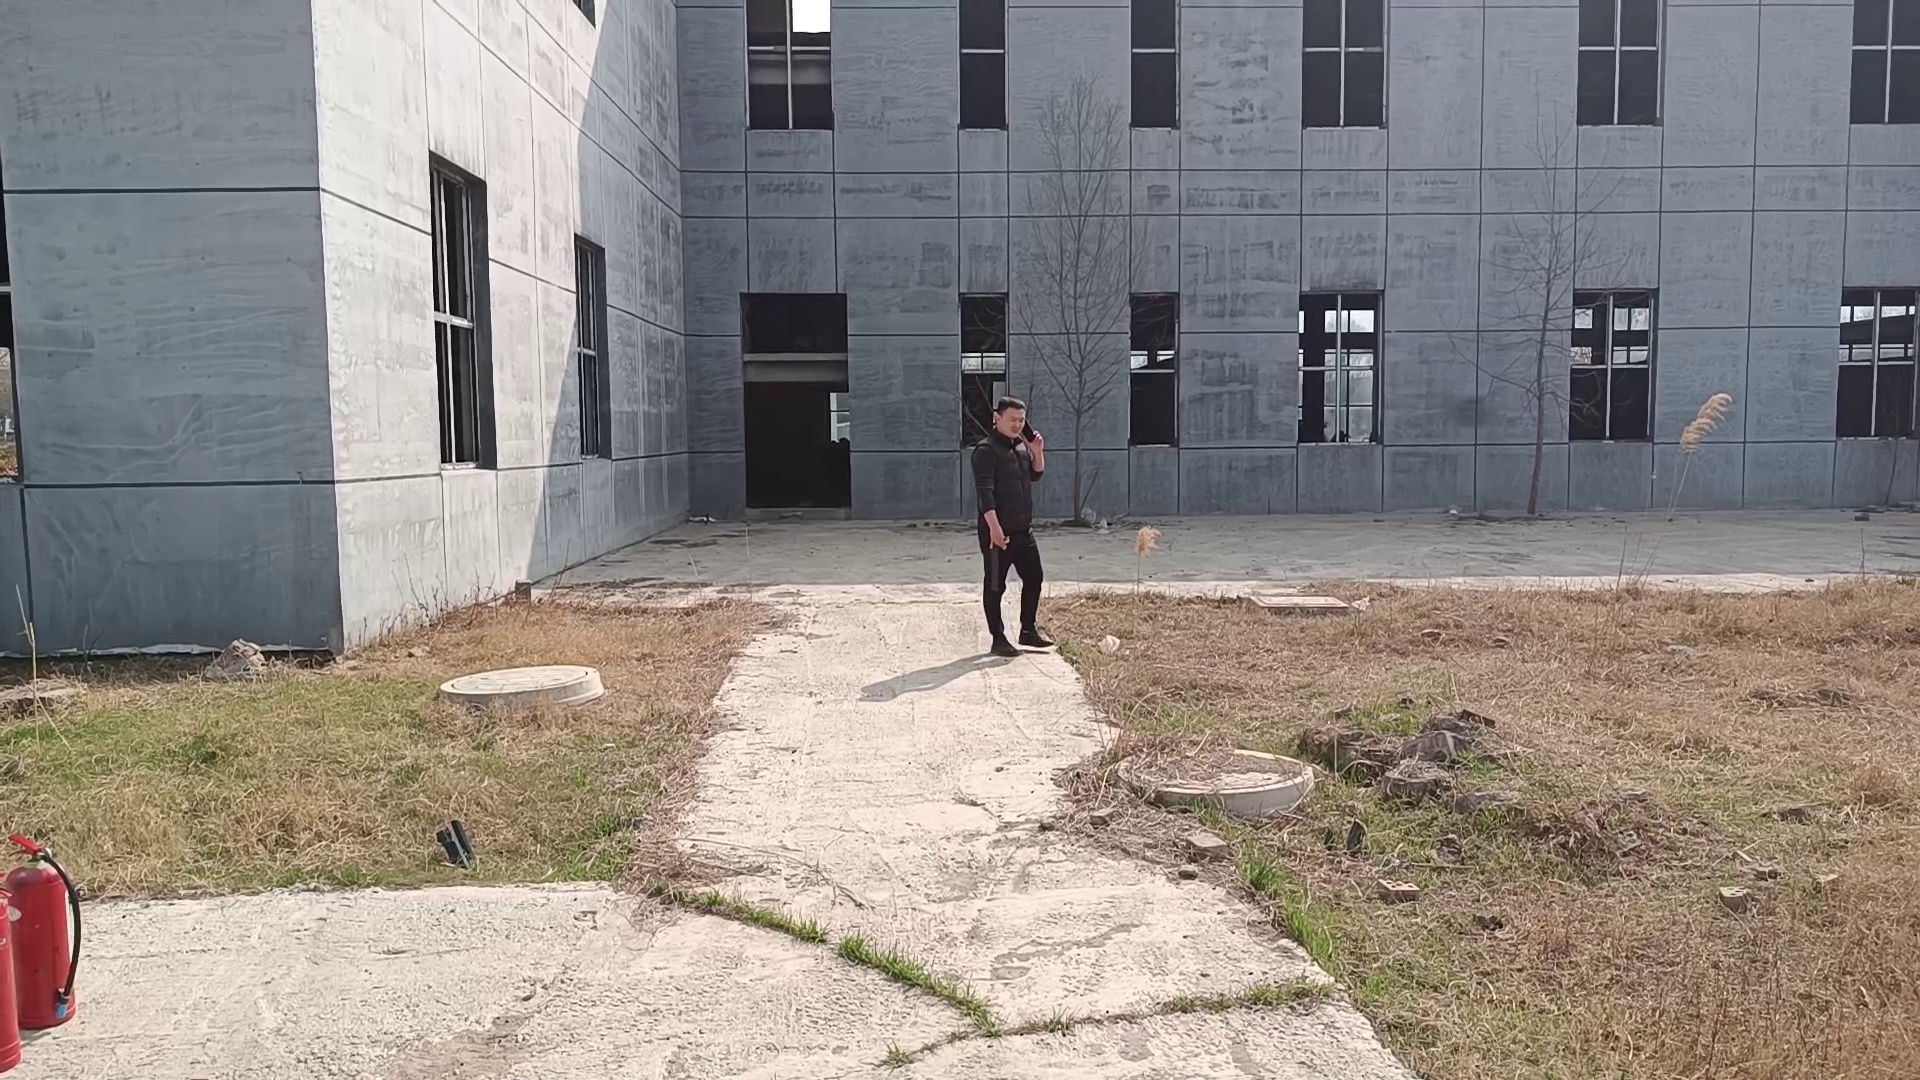phone: (982, 386, 1038, 452)
